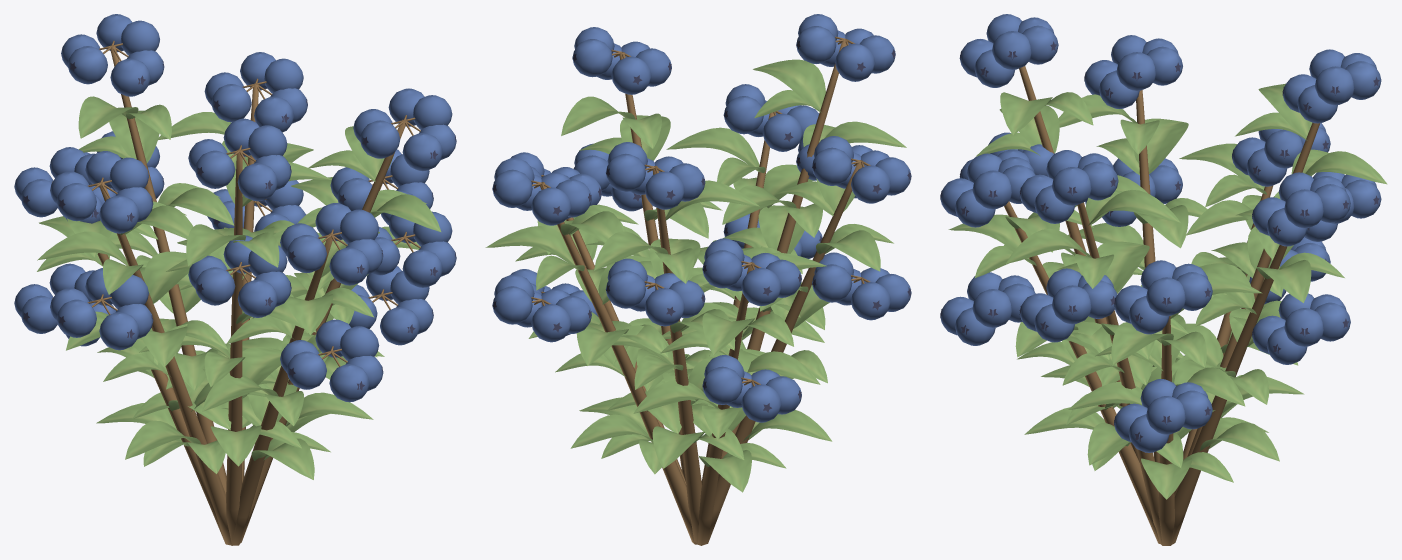
File: blueberry_mature.glb
3 renders of one model, left to right at view 1: azimuth 30°, elevation 25°; view 2: azimuth 150°, elevation 25°; view 3: azimuth 270°, elevation 25°, orthographic.
Parts seen in each view (by area): view 1: fruit, leaves, stems; view 2: leaves, fruit, stems; view 3: fruit, leaves, stems.
Part boxes in pixels (left/top/right/bottom): fruit: left=14, top=14, right=456, bottom=402; leaves: left=37, top=96, right=441, bottom=479; stems: left=52, top=40, right=420, bottom=545; leaves: left=485, top=59, right=906, bottom=492; fruit: left=492, top=14, right=911, bottom=422; stems: left=531, top=36, right=870, bottom=545; fruit: left=940, top=14, right=1381, bottom=452; leaves: left=948, top=83, right=1387, bottom=499; stems: left=1004, top=66, right=1319, bottom=545.
Size of the model in its own units: 0.7255 by 0.8668 by 0.7189.
